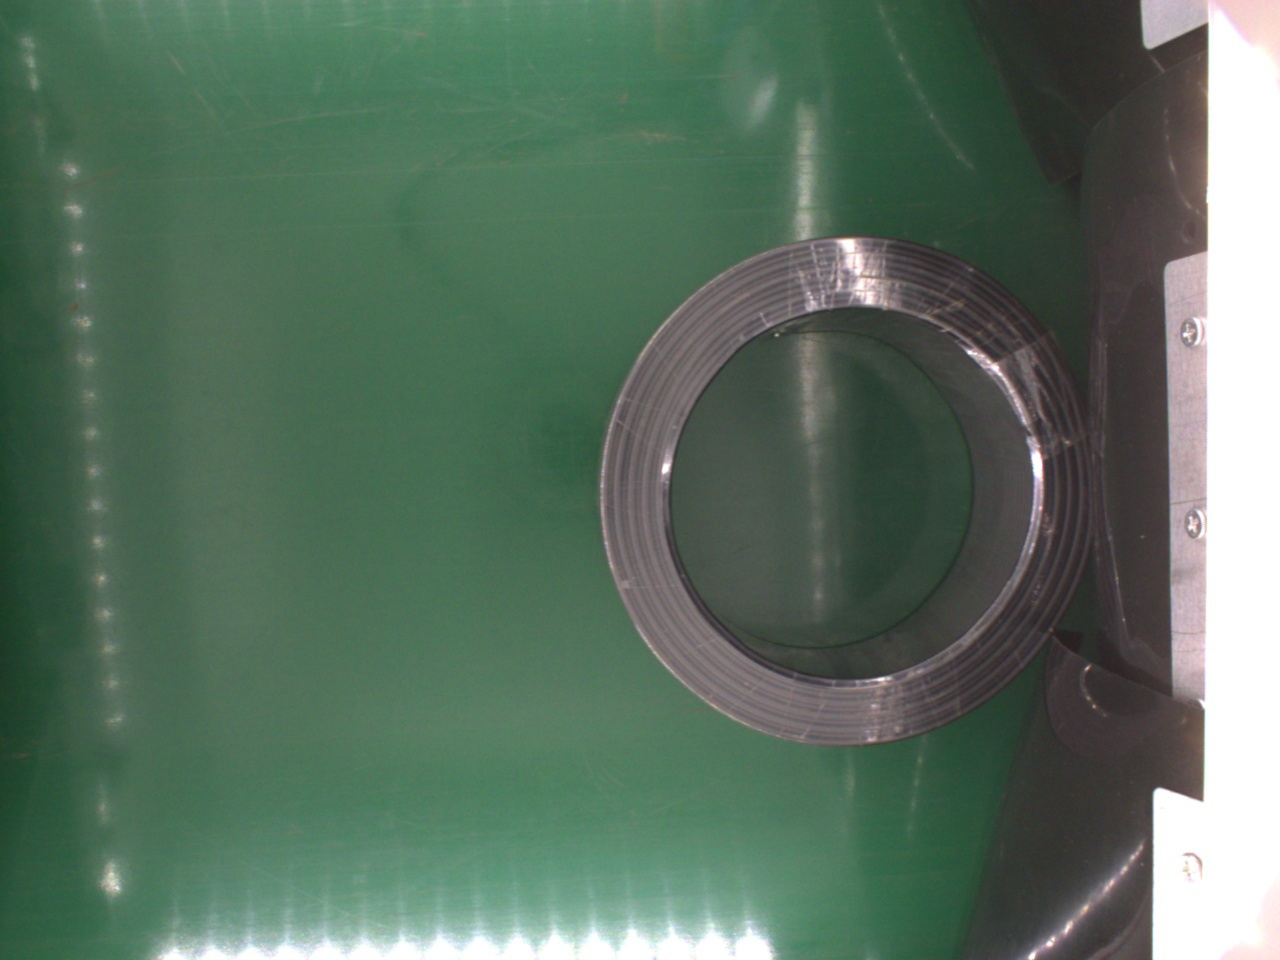black: (598, 233, 1103, 752)
